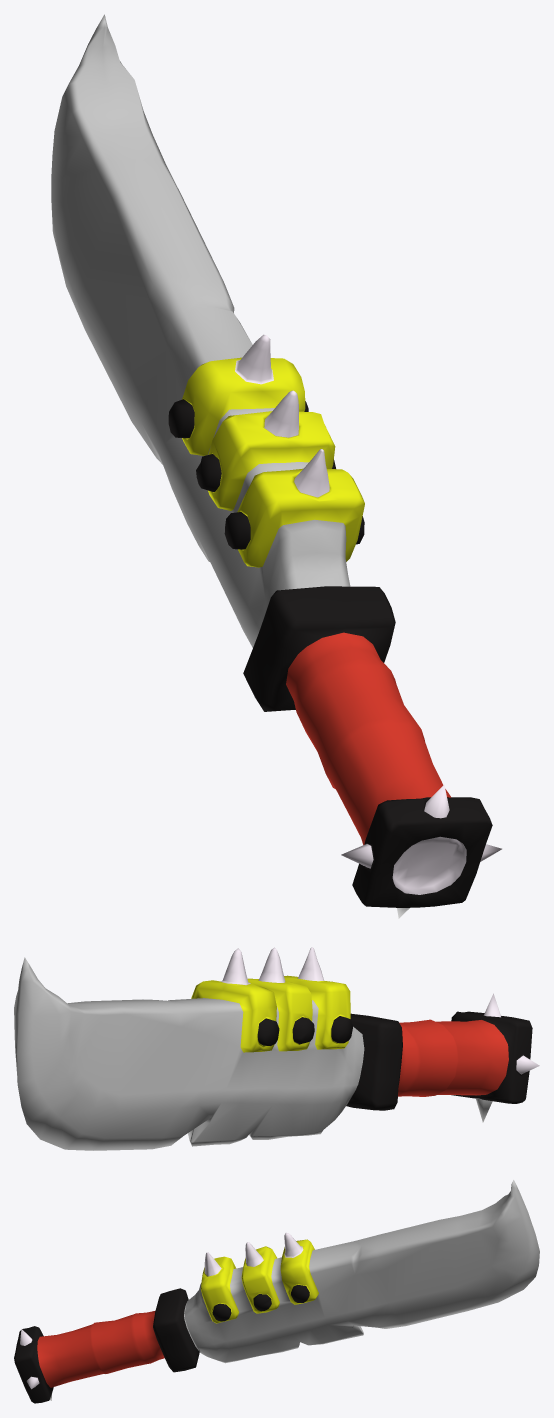
The model's file is RedSword.fbx.
The picture shows the model from 3 angles, top to bottom: view 1: azimuth 30°, elevation 25°; view 2: azimuth 150°, elevation 25°; view 3: azimuth 270°, elevation 25°; orthographic projection. The views are drawn at different scales.
Parts seen in each view (by area): view 1: sword_007, sword_001, sword, sword_002, sword_008, sword_011, sword_014, sword_006, sword_015, sword_013, sword_010; view 2: sword_007, sword_001, sword, sword_002, sword_014, sword_008, sword_011, sword_015, sword_013, sword_010, sword_020, sword_018 (+2 smaller); view 3: sword_007, sword_001, sword, sword_002, sword_011, sword_008, sword_014, sword_015, sword_013, sword_016, sword_010, sword_009.
Boxes of the visible parts, x1,y1,x2,y2 form: sword_007: (51,14,350,647); sword_001: (286,632,451,844); sword: (243,586,395,711); sword_002: (352,797,492,907); sword_008: (237,468,364,567); sword_011: (208,411,335,510); sword_014: (182,357,305,455); sword_006: (392,836,466,894); sword_015: (235,334,273,384); sword_013: (264,390,298,437); sword_010: (294,449,329,497); sword_007: (14,957,364,1150); sword_001: (398,1019,508,1096); sword: (346,1013,402,1110); sword_002: (451,1011,532,1103); sword_014: (191,980,276,1052); sword_008: (284,975,350,1049); sword_011: (247,978,312,1051); sword_015: (220,948,250,985); sword_013: (258,947,285,982); sword_010: (298,947,323,981); sword_020: (257,1018,279,1045); sword_018: (331,1016,352,1043); sword_007: (184,1180,539,1363); sword_001: (37,1310,164,1387); sword: (153,1288,199,1372); sword_002: (14,1326,53,1403); sword_011: (241,1246,279,1313); sword_008: (200,1256,239,1323); sword_014: (280,1239,318,1304); sword_015: (284,1232,303,1257); sword_013: (245,1242,263,1266); sword_016: (291,1284,309,1302); sword_010: (204,1252,221,1276); sword_009: (212,1303,231,1321).
Bounding box in the file's own units: 428 × 834 × 1513.
